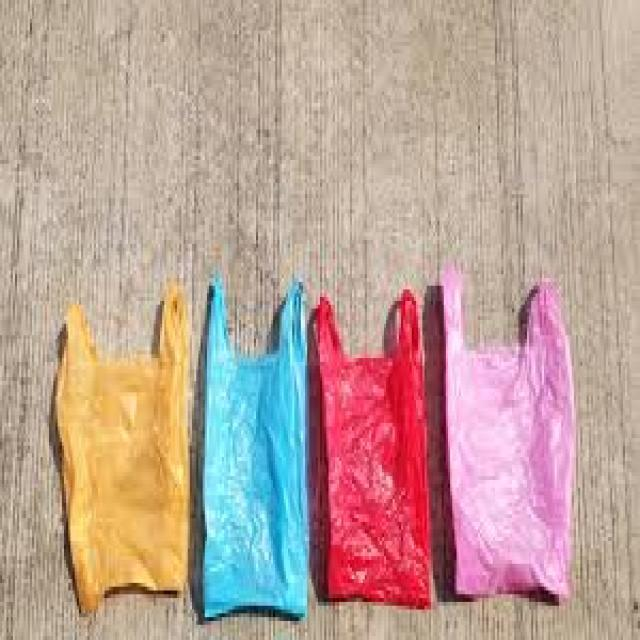Single-layer Plastic: (424, 264, 576, 602), (55, 284, 189, 612), (310, 290, 431, 608), (204, 278, 309, 619)
